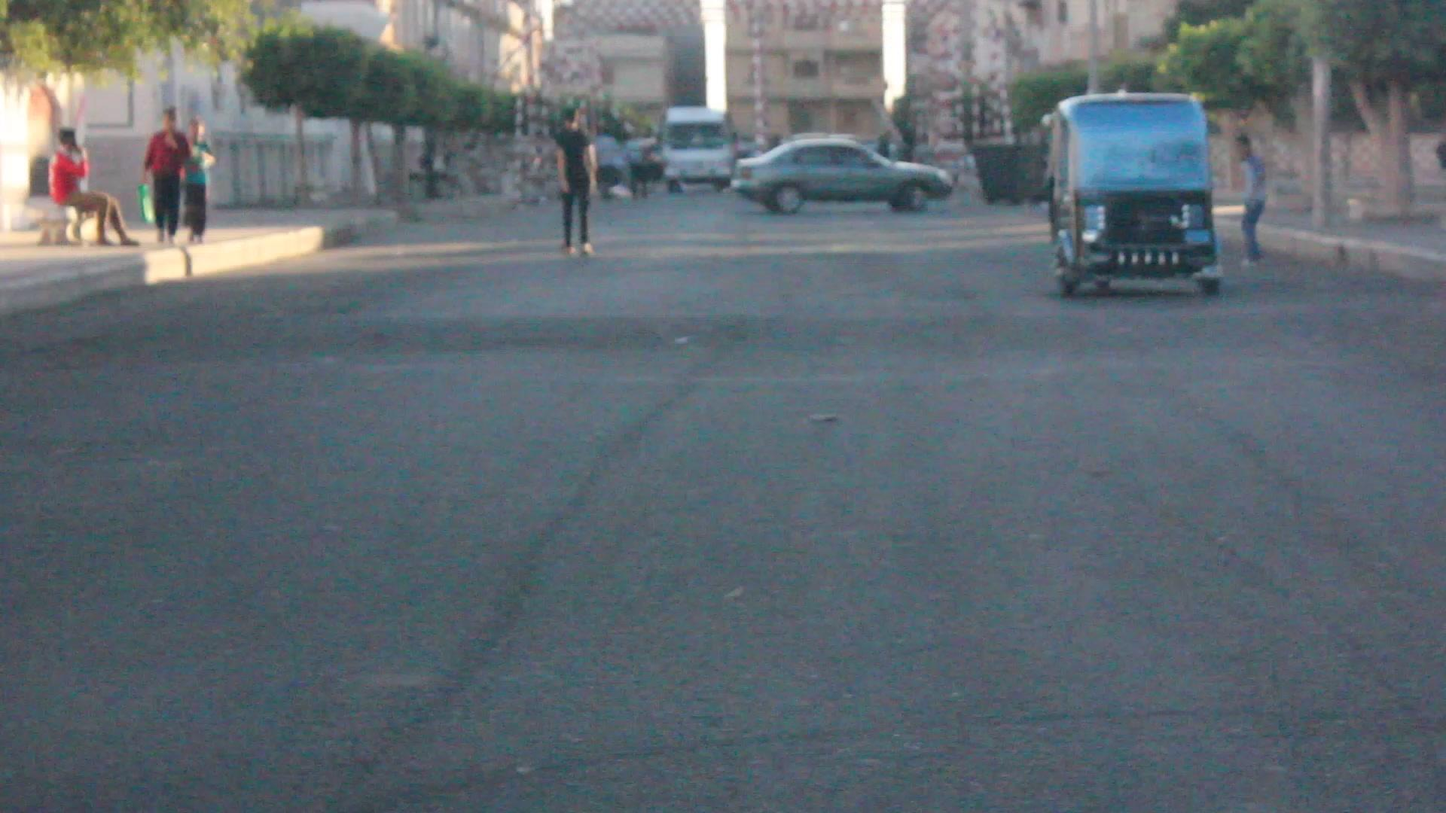Bump: (60, 282, 1446, 371)
